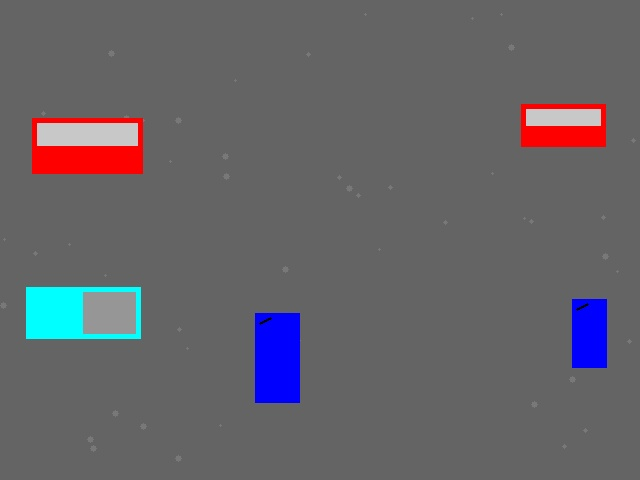car: (32, 118, 142, 173), (521, 104, 605, 146)
motorcycle: (255, 313, 299, 402), (572, 299, 606, 367)
truck: (26, 287, 140, 338)
